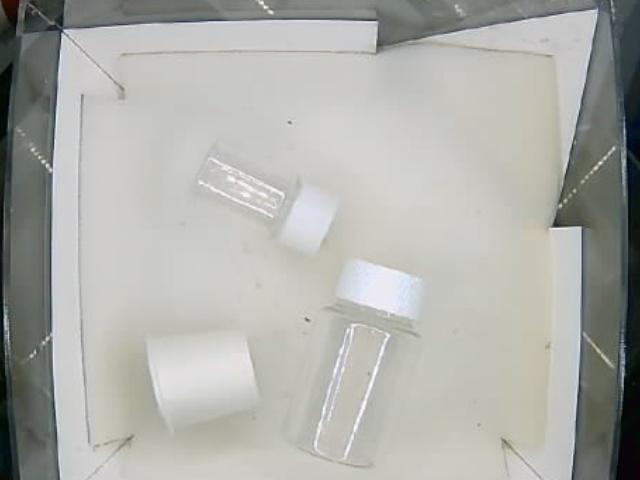Bottle: (279, 260, 426, 469), (196, 145, 339, 255)
Cup: (143, 330, 263, 435)
